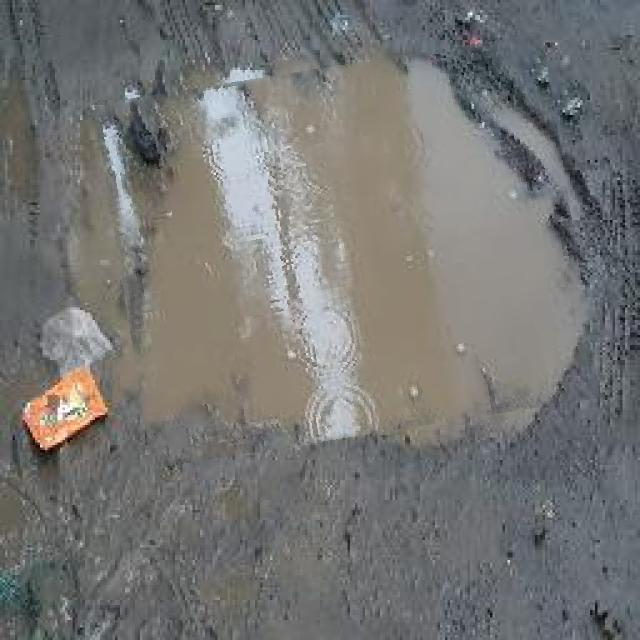puddle: (108, 50, 588, 453)
